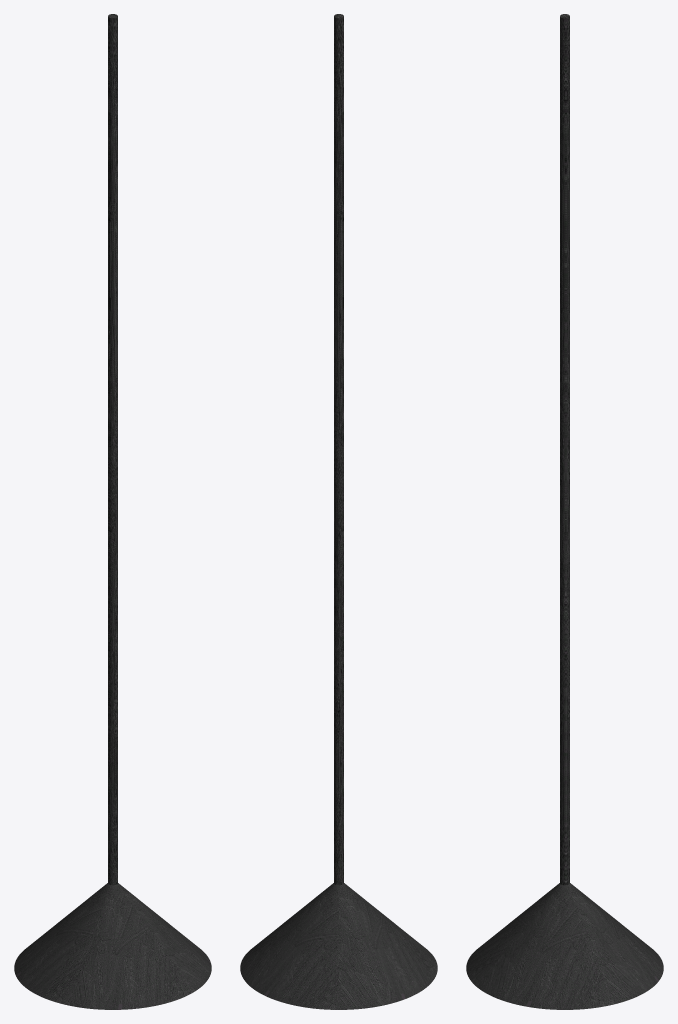
Rendered from Lamp03.fbx.
The picture shows the model from 3 angles, left to right: view 1: azimuth 30°, elevation 25°; view 2: azimuth 150°, elevation 25°; view 3: azimuth 270°, elevation 25°; orthographic projection.
Parts seen in each view (by area): view 1: node_id6, node_id9; view 2: node_id6, node_id9; view 3: node_id6, node_id9.
Part boxes in pixels (box(x1,y1,x2,y2)): node_id6: box(14, 883, 211, 1009); node_id9: box(108, 14, 117, 885); node_id6: box(240, 883, 437, 1009); node_id9: box(334, 14, 343, 885); node_id6: box(466, 883, 663, 1009); node_id9: box(560, 14, 569, 885).
Bounding box in the file's own units: 0.0963 × 0.512 × 0.0963.
Materials: 4 (3 with a texture image).
